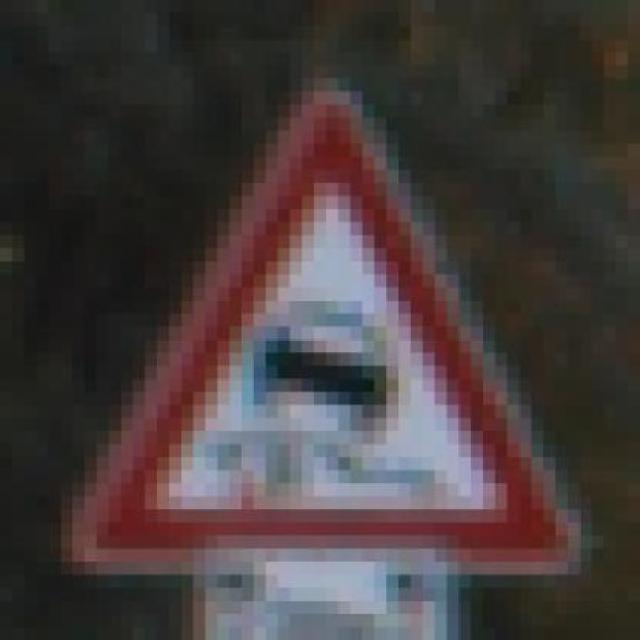Slippery Road Ahead: (60, 52, 592, 600)
